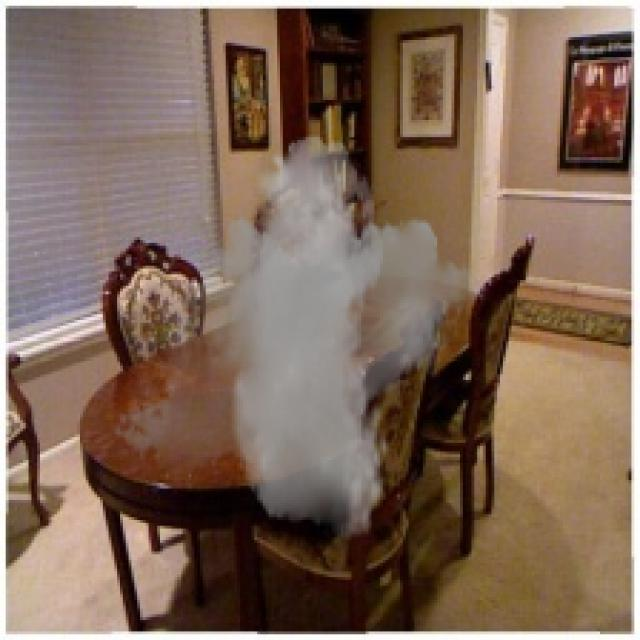smoke: (111, 134, 486, 540)
